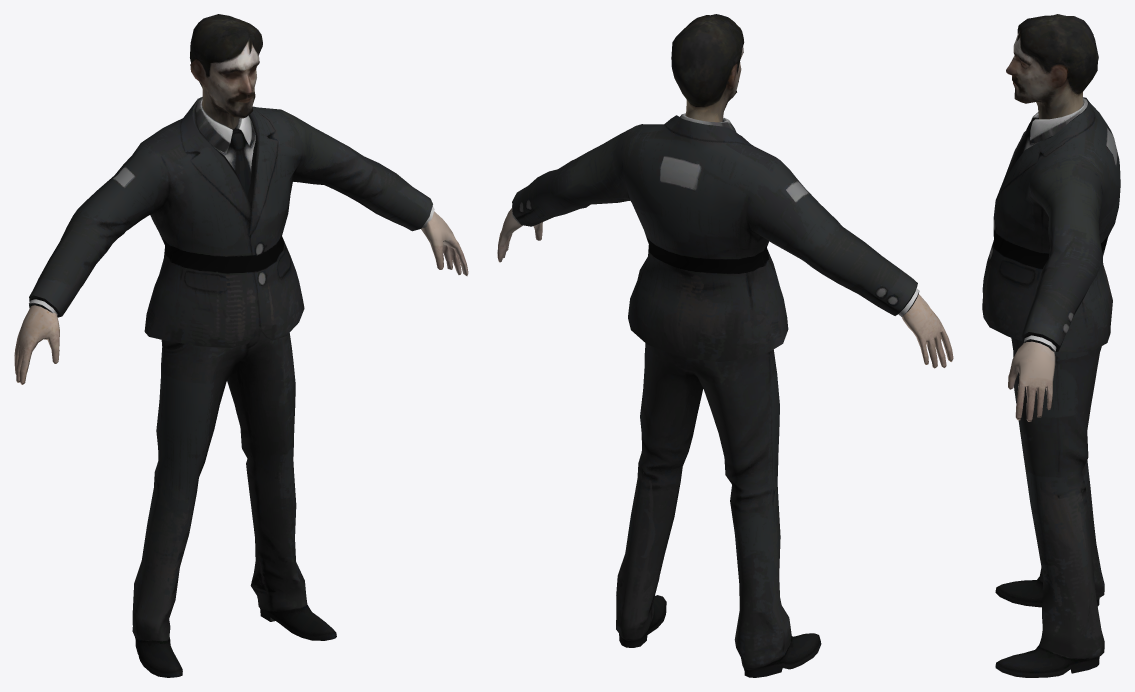
Rendered from jean.obj.
The picture shows the model from 3 angles, left to right: view 1: azimuth 30°, elevation 25°; view 2: azimuth 150°, elevation 25°; view 3: azimuth 270°, elevation 25°; orthographic projection.
Parts seen in each view (by area): view 1: jacket_rcm, Interisolar_body, Vicquemare_head; view 2: jacket_rcm, Interisolar_body, Vicquemare_head; view 3: jacket_rcm, Interisolar_body, Vicquemare_head.
Part boxes in pixels (x1,y1,x2,y2): jacket_rcm: (29, 97, 432, 347); Interisolar_body: (14, 97, 468, 677); Vicquemare_head: (190, 14, 262, 129); jacket_rcm: (512, 115, 917, 361); Interisolar_body: (497, 113, 953, 677); Vicquemare_head: (671, 14, 744, 122); jacket_rcm: (982, 97, 1120, 352); Interisolar_body: (995, 98, 1104, 677); Vicquemare_head: (1006, 14, 1098, 119).
Size of the model in its own units: 1.45 by 1.92 by 0.3896.
Materials: 2 (2 with a texture image).
